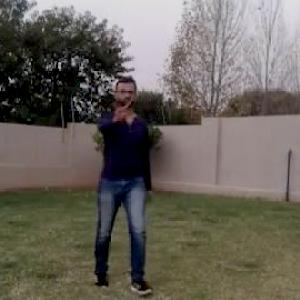takeoff-hand: (105, 91, 134, 127)
